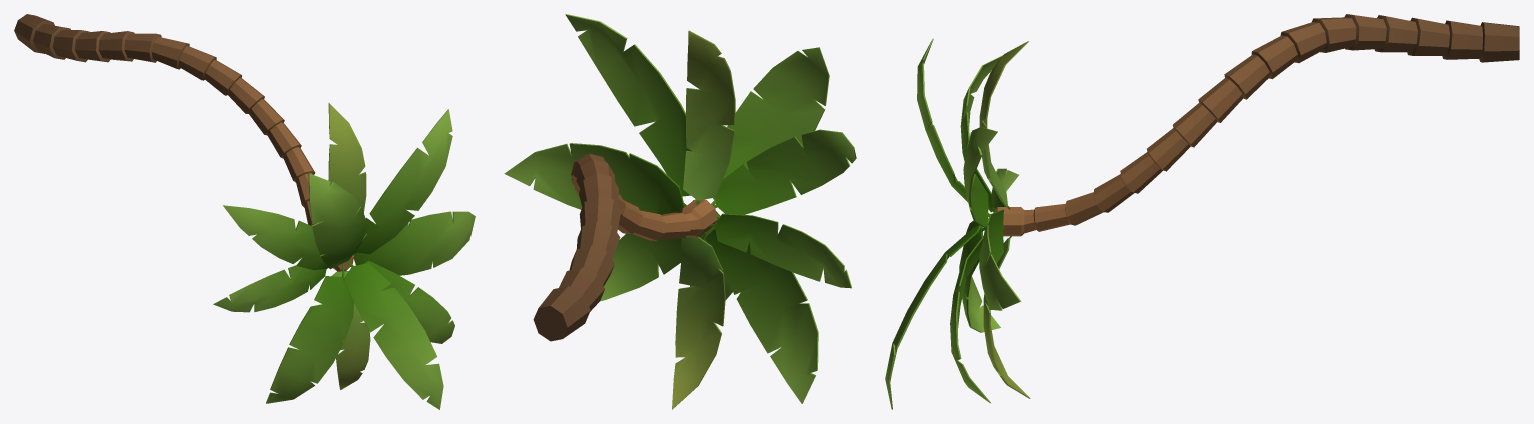
File: PalmTree.gltf
The picture shows the model from 3 angles, left to right: view 1: azimuth 30°, elevation 25°; view 2: azimuth 150°, elevation 25°; view 3: azimuth 270°, elevation 25°; orthographic projection. The views are drawn at different scales.
Visible parts, largest first — view 1: PalmTree_05_LOD0; view 2: PalmTree_05_LOD0; view 3: PalmTree_05_LOD0.
Boxes of the visible parts, x1,y1,x2,y2 form: PalmTree_05_LOD0: (14,14,475,409); PalmTree_05_LOD0: (504,14,856,409); PalmTree_05_LOD0: (885,14,1519,409).
Size of the model in its own units: 2.38 by 2.51 by 4.12.
